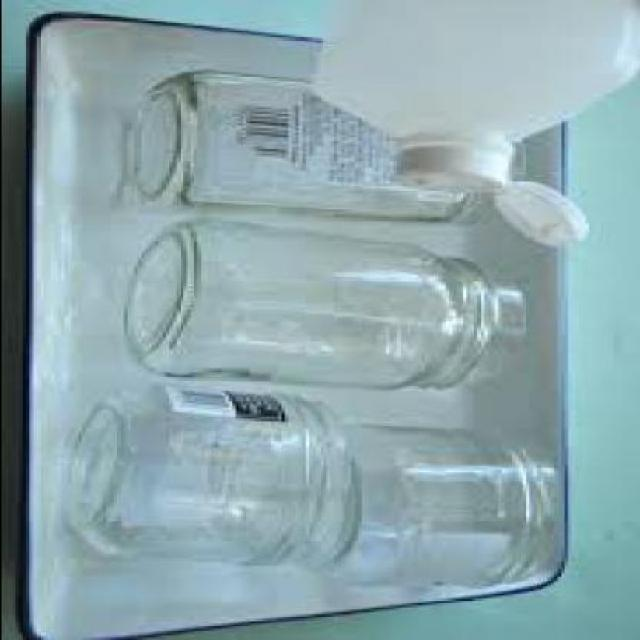GLASS: (129, 217, 528, 386), (129, 68, 489, 218), (73, 382, 350, 563), (332, 426, 566, 586)
PLASTIC: (317, 0, 638, 245), (394, 132, 514, 194), (496, 182, 592, 240)
